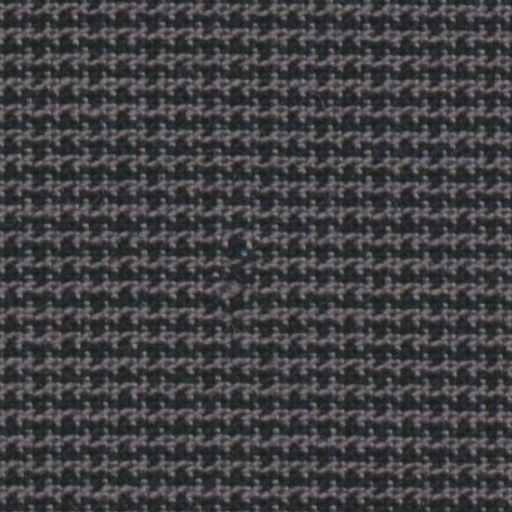PoDong: (189, 208, 286, 326)
